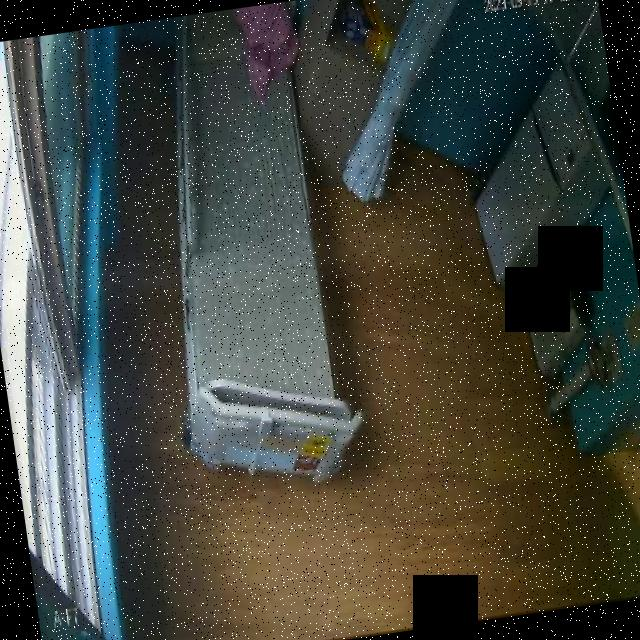bed: (132, 1, 370, 496)
